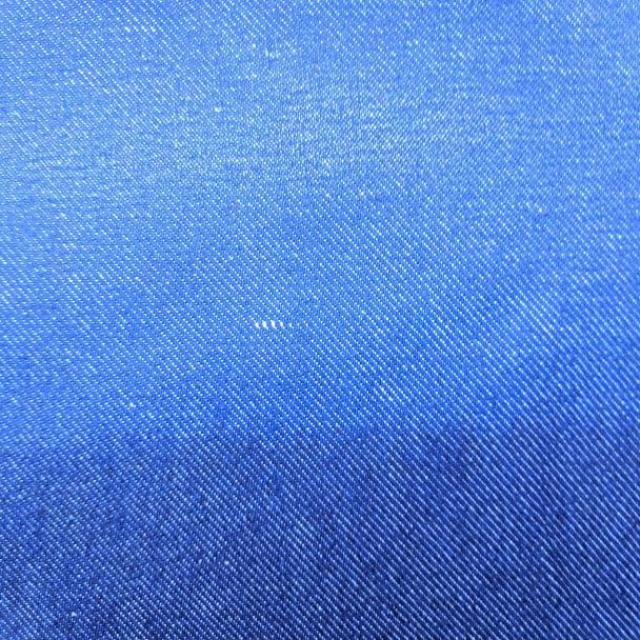Knot: (254, 320, 298, 331)
